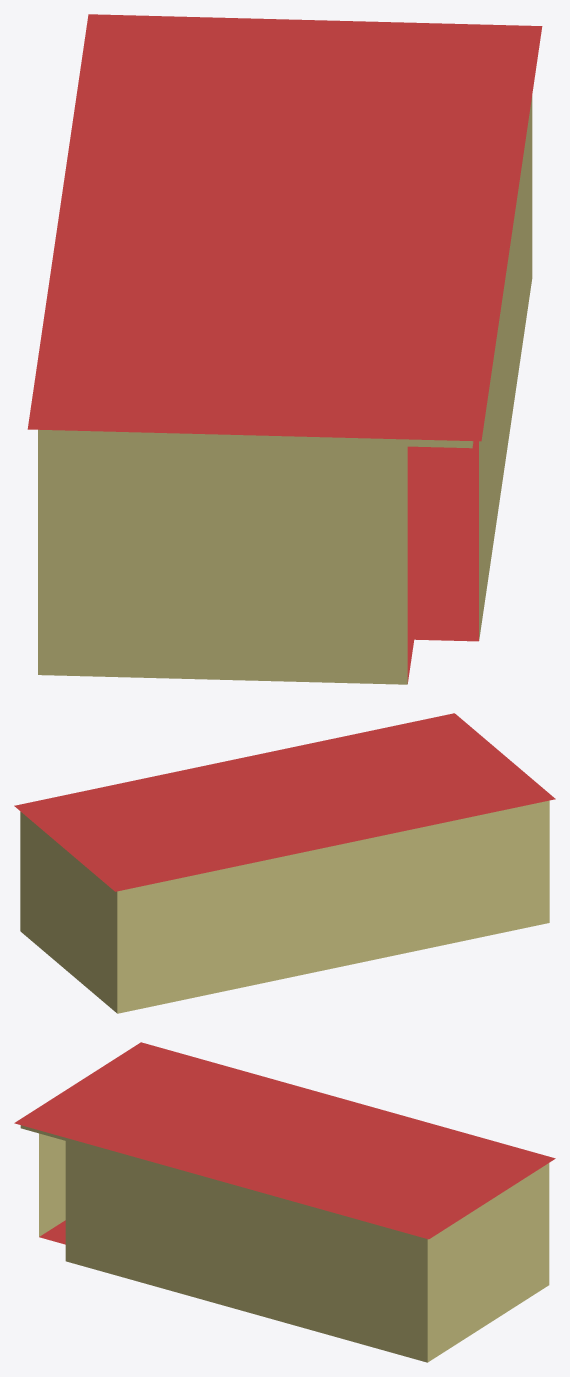
3 renders of one model, top to bottom at view 1: azimuth 30°, elevation 25°; view 2: azimuth 150°, elevation 25°; view 3: azimuth 270°, elevation 25°, orthographic. The views are drawn at different scales.
Visible parts, largest first — view 1: group_3, group_5, group_6, group_4; view 2: group_5, group_3, group_4; view 3: group_5, group_3, group_4.
Boxes of the visible parts, x1,y1,x2,y2 form: group_3: (27,14,541,441); group_5: (38,96,532,684); group_6: (407,441,478,683); group_4: (28,14,542,440); group_5: (20,800,549,1013); group_3: (14,713,555,891); group_4: (15,713,554,891); group_5: (20,1125,549,1362); group_3: (14,1042,555,1238); group_4: (15,1042,555,1239).
Bounding box in the file's own units: 47.98 × 55.71 × 14.3.
